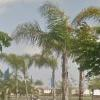Palm tree: (26, 3, 92, 94)
